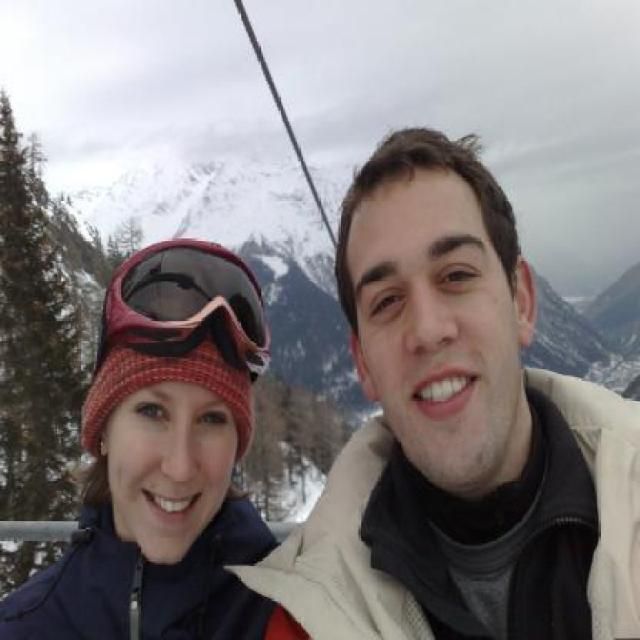face_nomask: (344, 251, 516, 437), (118, 376, 230, 530)
glasses: (95, 235, 278, 373)
head_nohelmet: (316, 122, 510, 216)
